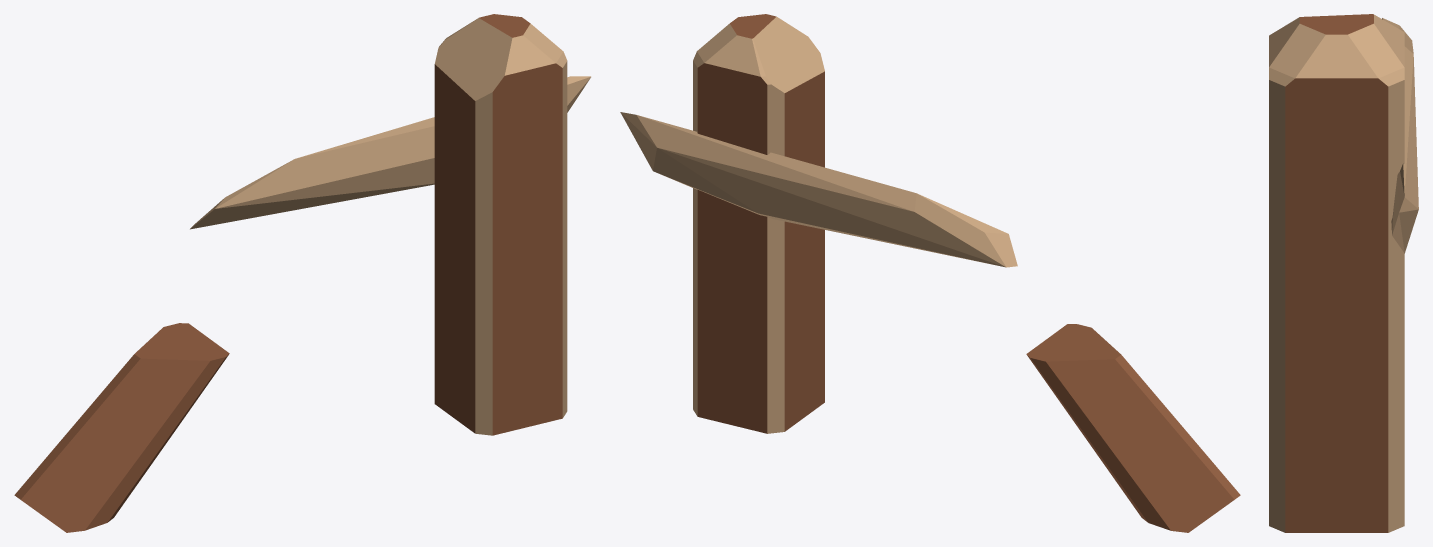
File: Cerca_Partida.fbx
3 views of the same model, side by side, from view 1: azimuth 30°, elevation 25°; view 2: azimuth 150°, elevation 25°; view 3: azimuth 270°, elevation 25° (orthographic). The views are drawn at different scales.
Visible parts, largest first — view 1: Cube.024, Cube.027; view 2: Cube.024, Cube.027; view 3: Cube.024, Cube.027.
Boxes of the visible parts, bbox=[...] form: Cube.024: bbox=[14, 14, 567, 532]; Cube.027: bbox=[190, 76, 590, 229]; Cube.024: bbox=[693, 14, 1240, 532]; Cube.027: bbox=[620, 112, 1017, 267]; Cube.024: bbox=[1269, 14, 1404, 532]; Cube.027: bbox=[1382, 18, 1418, 253].
Bounding box in the file's own units: 501 × 85.46 × 307.
